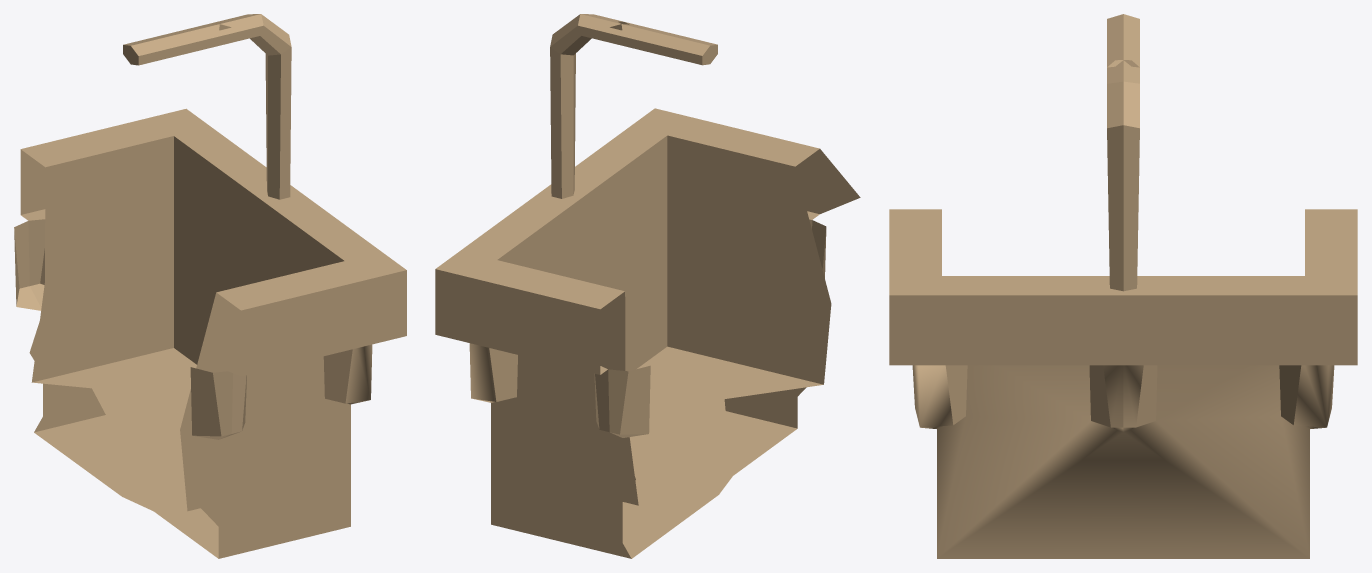
Rendered from basket1.fbx.
The picture shows the model from 3 angles, left to right: view 1: azimuth 30°, elevation 25°; view 2: azimuth 150°, elevation 25°; view 3: azimuth 270°, elevation 25°; orthographic projection. The views are drawn at different scales.
Parts seen in each view (by area): view 1: Cube.001; view 2: Cube.001; view 3: Cube.001.
Part boxes in pixels (x1,y1,x2,y2): Cube.001: (14, 14, 406, 558); Cube.001: (435, 14, 860, 558); Cube.001: (889, 14, 1357, 558).
Bounding box in the file's own units: 113 × 234 × 209.
